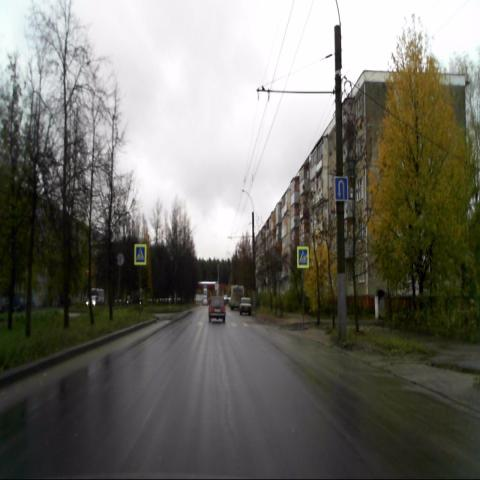6_3_1: (334, 176, 348, 201)
